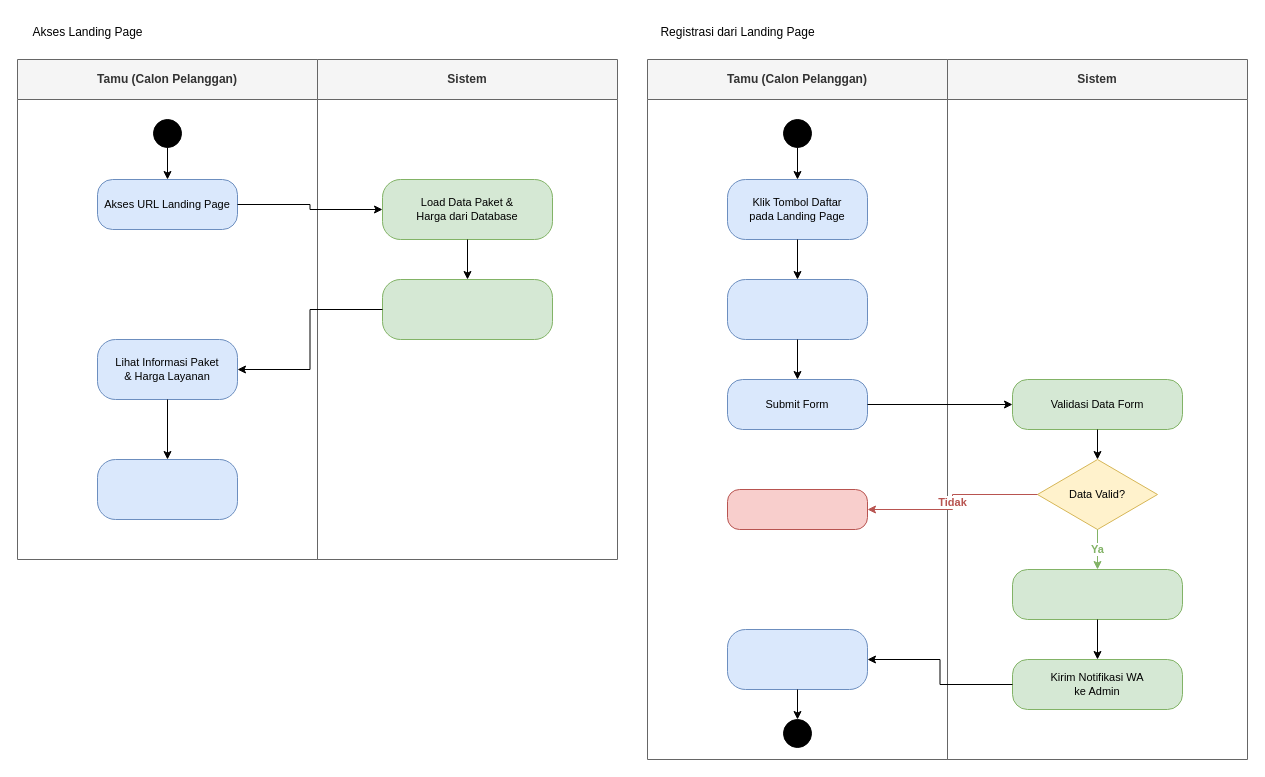
The diagram is 1265 pixels wide and 777 high, and some of its shapes have lost their labels. Each missing label, with the centre of its shape:
"Isi Form Registrasi (Nama, Alamat, No. WA)" belongs at (x=797, y=309).
"Pilih Aksi: Daftar / Lihat Saja" belongs at (x=167, y=489).
"Render Halaman Landing (Hero, Paket, Testimoni)" belongs at (x=467, y=309).
"Simpan Data Registrasi ke Database" belongs at (x=1097, y=594).
"Tampilkan Error Validasi" belongs at (x=797, y=509).
"Tampilkan Pesan Sukses: Registrasi Diterima" belongs at (x=797, y=659).
